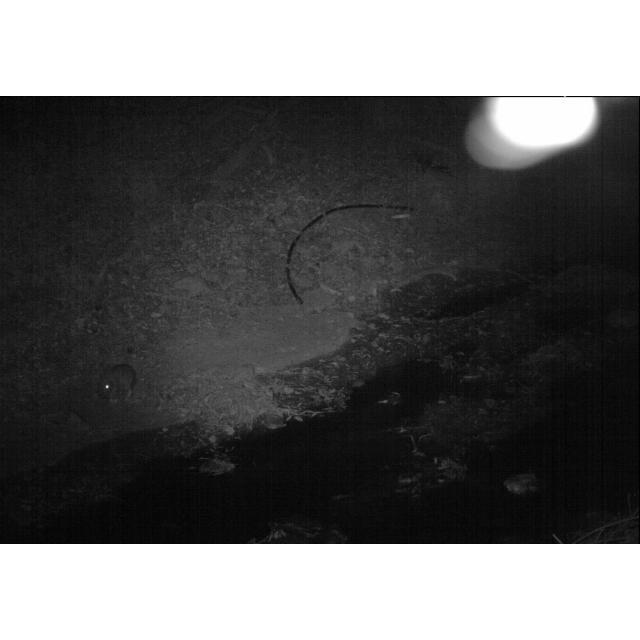animals: (94, 360, 140, 406)
